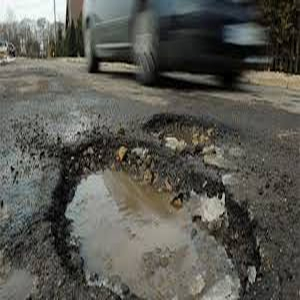pothole: (50, 138, 264, 300), (144, 112, 258, 169)
